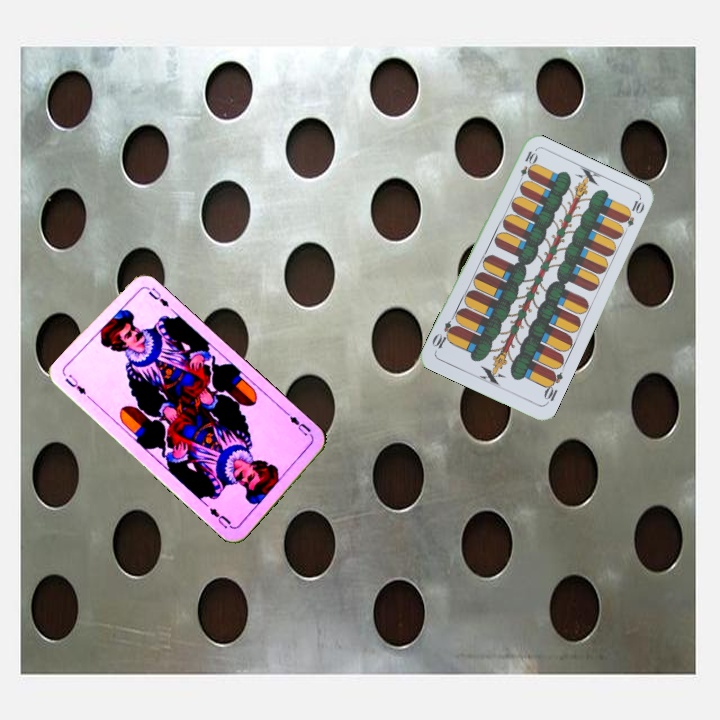E10: (539, 367, 566, 407), (515, 147, 539, 186)
EU: (282, 408, 315, 440), (61, 370, 89, 397)
